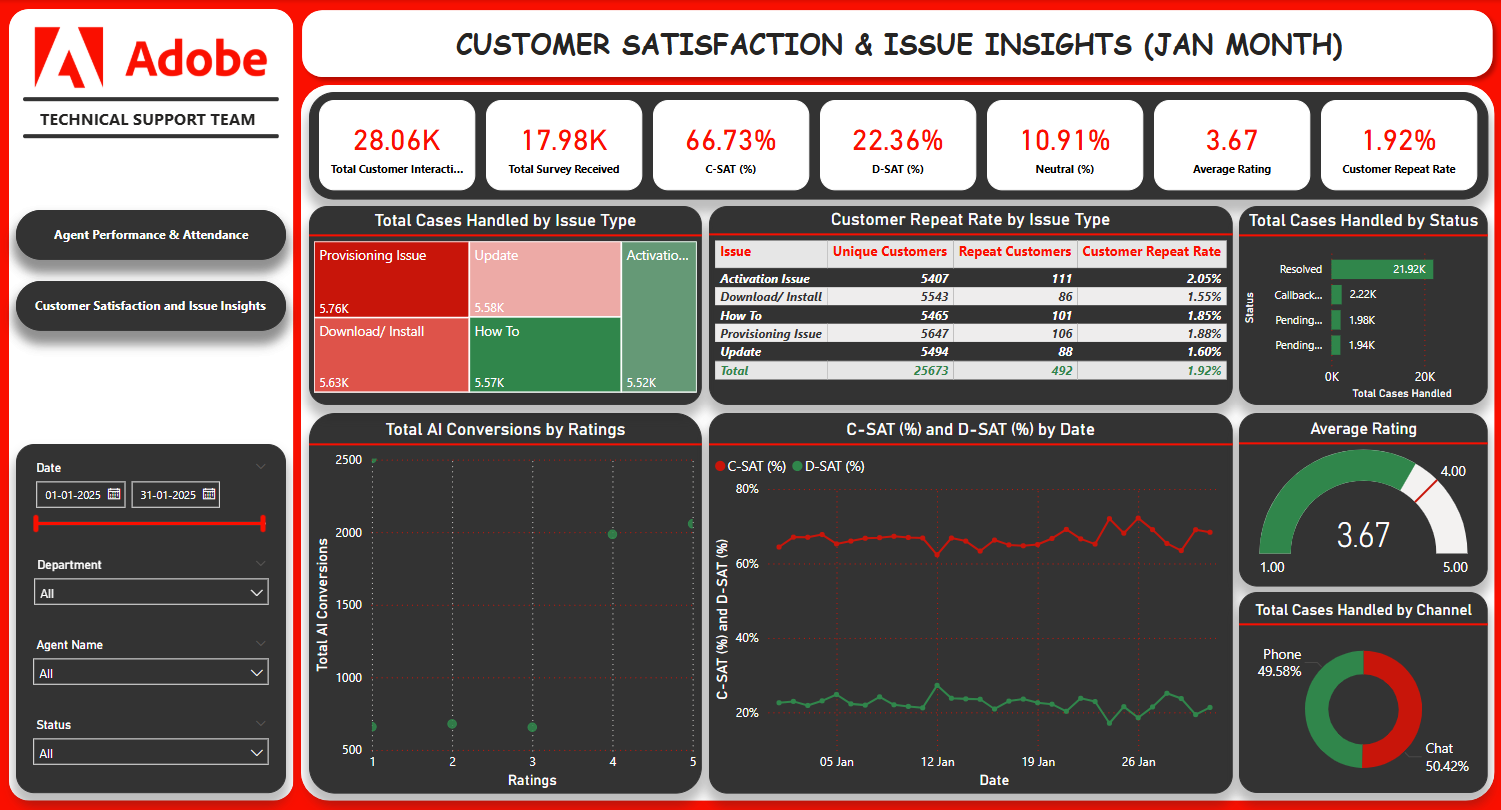

Layout of this report page (visuals, bound fields, positions):
{"tool":"powerbi","page":{"name":"Customer Satisfaction & Issue Insights","canvas":[1480,800],"ordinal":1},"visuals":[{"type":"shape","box":[9,9,280.2,779.9],"z":0,"group":"g14"},{"type":"shape","box":[296.2,83.8,1175.8,705.1],"z":0,"group":"g10"},{"type":"group","id":"g1","title":"Group 6","box":[304.2,90.8,1161.9,105.7],"z":1000,"group":"g10"},{"type":"group","id":"g2","title":"Group 1","box":[16,206.4,266.3,48.9],"z":1000,"group":"g14"},{"type":"shape","box":[16,206.4,266.3,48.9],"z":1000,"group":"g2"},{"type":"shape","box":[16,206.4,266.3,48.9],"z":1000,"group":"g12"},{"type":"shape","box":[16,277.3,266.3,48.9],"z":1000,"group":"g18"},{"type":"group","id":"g3","title":"Group 8","box":[698.1,203.5,515.6,196.5],"z":2000,"group":"g10"},{"type":"group","id":"g4","title":"Group 2","box":[16,277.3,266.3,48.9],"z":2000,"group":"g14"},{"type":"group","id":"g5","title":"Group 9","box":[1220.7,203.5,245.3,196.5],"z":3000,"group":"g10"},{"type":"textbox","box":[48.9,216.4,217.4,33.9],"z":3000,"group":"g2"},{"type":"group","id":"g6","title":"Group 3","box":[16,437.8,266.3,344.1],"z":3000,"group":"g14"},{"type":"group","id":"g7","title":"Group 10","box":[304.2,406.9,387,375],"z":4000,"group":"g10"},{"type":"group","id":"g8","title":"Group 5","box":[289.2,1,1190.8,83.8],"z":5000,"group":"g14"},{"type":"group","id":"g9","title":"Group 11","box":[698.1,406.9,515.6,375],"z":5000,"group":"g10"},{"type":"group","id":"g10","title":"Group 14","box":[296.2,83.8,1175.8,705.1],"z":6000,"group":"g14"},{"type":"group","id":"g11","title":"Group 12","box":[1220.7,406.9,245.3,170.5],"z":6000,"group":"g10"},{"type":"shape","box":[304.2,90.8,1161.9,105.7],"z":7000,"group":"g1"},{"type":"group","id":"g12","title":"Group 1","box":[16,206.4,266.3,48.9],"z":7000,"group":"g14"},{"type":"group","id":"g13","title":"Group 13","box":[1220.7,583.4,245.3,198.5],"z":7000,"group":"g10"},{"type":"group","id":"g14","title":"Group 15","box":[9,1,1471,787.9],"z":7002,"group":"g16"},{"type":"group","id":"g15","title":"Group 4","box":[9,9,280.2,139.6],"z":7502,"group":"g16"},{"type":"group","id":"g16","title":"Group 16","box":[9,1,1471,787.9],"z":7503},{"type":"card","fields":{"Values":["Table.Neutral (%)"]},"box":[972.4,98.8,153.6,88.8],"z":8000,"group":"g1"},{"type":"group","id":"g17","title":"Group 7","box":[304.2,203.5,387,196.5],"z":8000,"group":"g10"},{"type":"group","id":"g18","title":"Group 1","box":[16,277.3,266.3,48.9],"z":8000,"group":"g14"},{"type":"card","fields":{"Values":["Table.Total Customer Interactions"]},"box":[314.2,98.8,153.6,88.8],"z":9000,"group":"g1"},{"type":"card","fields":{"Values":["Table.D-SAT (%)"]},"box":[807.8,98.8,153.6,88.8],"z":10000,"group":"g1"},{"type":"card","fields":{"Values":["Table.Total Survey Received"]},"box":[478.7,98.8,153.6,88.8],"z":11000,"group":"g1"},{"type":"image","box":[9,9,280.2,97.7],"z":12000,"group":"g15"},{"type":"card","fields":{"Values":["Table.C-SAT (%)"]},"box":[643.3,98.8,153.6,88.8],"z":12000,"group":"g1"},{"type":"shape","box":[23,83.8,252.3,27.9],"z":13000,"group":"g15"},{"type":"card","fields":{"Values":["Table.Average Rating"]},"box":[1136.9,98.8,153.6,88.8],"z":13000,"group":"g1"},{"type":"card","fields":{"Values":["Table.Customer Repeat Rate"]},"box":[1301.5,98.8,153.6,88.8],"z":14000,"group":"g1"},{"type":"textbox","box":[34.9,101.7,231.4,31.9],"z":14000,"group":"g15"},{"type":"shape","box":[23,120.7,252.3,27.9],"z":15000,"group":"g15"},{"type":"shape","box":[698.1,203.5,515.6,196.5],"z":15000,"group":"g3"},{"type":"shape","box":[304.2,203.5,387,196.5],"z":16000,"group":"g17"},{"type":"shape","box":[16,437.8,266.3,344.1],"z":16000,"group":"g6"},{"type":"shape","box":[304.2,406.9,387,375],"z":17000,"group":"g7"},{"type":"slicer","fields":{"Values":["CalendarTable.Date"]},"box":[23.1,449.8,252.3,81.8],"z":17000,"group":"g6"},{"type":"shape","box":[698.1,406.9,515.6,375],"z":18000,"group":"g9"},{"type":"slicer","fields":{"Values":["Agent Details.Agent Name"]},"box":[23.1,624,252.3,65.8],"z":18000,"group":"g6"},{"type":"tableEx","title":"Customer Repeat Rate by Issue Type","fields":{"Values":["Case Details.Issue","Table.Unique Customers","Table.Repeat_Customers","Table.Customer_Repeat_Rate"]},"box":[698.1,206.5,515.6,193.5],"z":19000,"group":"g3"},{"type":"slicer","fields":{"Values":["Case Details.Status"]},"box":[23.1,703.1,252.3,66.8],"z":19000,"group":"g6"},{"type":"shape","box":[1220.7,203.5,245.3,196.5],"z":20000,"group":"g5"},{"type":"slicer","fields":{"Values":["Agent Details.Department"]},"box":[23.6,544.8,251.3,65.8],"z":20000,"group":"g6"},{"type":"shape","box":[16,277.3,266.3,48.9],"z":21000,"group":"g4"},{"type":"treemap","title":"Total Cases Handled by Issue Type","fields":{"Values":["Table.Total Cases Handled"],"Group":["Case Details.Issue"]},"box":[304.2,207.5,387,184.5],"z":22000,"group":"g17"},{"type":"textbox","box":[30,287.3,245.3,33.9],"z":22000,"group":"g4"},{"type":"shape","box":[289.2,1,1190.8,83.8],"z":23000,"group":"g8"},{"type":"textbox","box":[444.6,18.7,892.6,49.3],"z":24000,"group":"g8"},{"type":"lineChart","fields":{"Y":["Table.C-SAT (%)","Table.D-SAT (%)"],"Category":["CalendarTable.Date"]},"box":[698.1,412.9,515.6,369],"z":24000,"group":"g9"},{"type":"barChart","fields":{"Category":["Case Details.Status"],"Y":["Table.Total Cases Handled"]},"box":[1220.7,207.5,245.3,191.5],"z":25000,"group":"g5"},{"type":"scatterChart","fields":{"X":["Case Details.Ratings"],"Y":["Table.Total_AI_Conversions"]},"box":[304.2,412.9,387,369],"z":26000,"group":"g7"},{"type":"shape","box":[1220.7,406.9,245.3,170.5],"z":27000,"group":"g11"},{"type":"shape","box":[1220.7,583.4,245.3,198.5],"z":28000,"group":"g13"},{"type":"gauge","title":"Average Rating ","fields":{"Y":["Table.Average Rating"]},"box":[1220.7,412.9,245.3,164.6],"z":28500,"group":"g11"},{"type":"donutChart","title":"Total Cases Handled by Channel","fields":{"Category":["Case Details.Contact via"],"Y":["Table.Total Cases Handled"]},"box":[1220.7,592.4,245.3,189.5],"z":29000,"group":"g13"}]}

Visuals, with their boxes in screenshot pixels (x1, y1, x2, y2), scaled from the page's 1480x800 canvas onto the 1501x810 screenshot:
shape: 9 9 293 799
shape: 300 85 1493 799
"Group 6" group: 309 92 1487 199
"Group 1" group: 16 209 286 258
shape: 16 209 286 258
shape: 16 209 286 258
shape: 16 281 286 330
"Group 8" group: 708 206 1231 405
"Group 2" group: 16 281 286 330
"Group 9" group: 1238 206 1487 405
textbox: 50 219 270 253
"Group 3" group: 16 443 286 792
"Group 10" group: 309 412 701 792
"Group 5" group: 293 1 1500 86
"Group 11" group: 708 412 1231 792
"Group 14" group: 300 85 1493 799
"Group 12" group: 1238 412 1487 585
shape: 309 92 1487 199
"Group 1" group: 16 209 286 258
"Group 13" group: 1238 591 1487 792
"Group 15" group: 9 1 1500 799
"Group 4" group: 9 9 293 150
"Group 16" group: 9 1 1500 799
card - Table.Neutral (%): 986 100 1142 190
"Group 7" group: 309 206 701 405
"Group 1" group: 16 281 286 330
card - Table.Total Customer Interactions: 319 100 474 190
card - Table.D-SAT (%): 819 100 975 190
card - Table.Total Survey Received: 485 100 641 190
image: 9 9 293 108
card - Table.C-SAT (%): 652 100 808 190
shape: 23 85 279 113
card - Table.Average Rating: 1153 100 1309 190
card - Table.Customer Repeat Rate: 1320 100 1476 190
textbox: 35 103 270 135
shape: 23 122 279 150
shape: 708 206 1231 405
shape: 309 206 701 405
shape: 16 443 286 792
shape: 309 412 701 792
slicer - CalendarTable.Date: 23 455 279 538
shape: 708 412 1231 792
slicer - Agent Details.Agent Name: 23 632 279 698
"Customer Repeat Rate by Issue Type" tableEx: 708 209 1231 405
slicer - Case Details.Status: 23 712 279 780
shape: 1238 206 1487 405
slicer - Agent Details.Department: 24 552 279 618
shape: 16 281 286 330
"Total Cases Handled by Issue Type" treemap: 309 210 701 397
textbox: 30 291 279 325
shape: 293 1 1500 86
textbox: 451 19 1356 69
lineChart - Table.C-SAT (%) x Table.D-SAT (%): 708 418 1231 792
barChart - Case Details.Status x Table.Total Cases Handled: 1238 210 1487 404
scatterChart - Case Details.Ratings x Table.Total_AI_Conversions: 309 418 701 792
shape: 1238 412 1487 585
shape: 1238 591 1487 792
"Average Rating " gauge: 1238 418 1487 585
"Total Cases Handled by Channel" donutChart: 1238 600 1487 792
